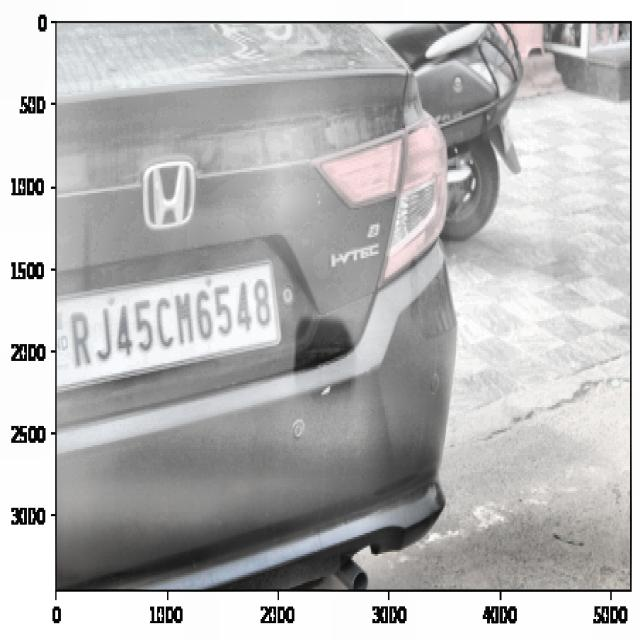license_plate: (67, 274, 278, 372)
